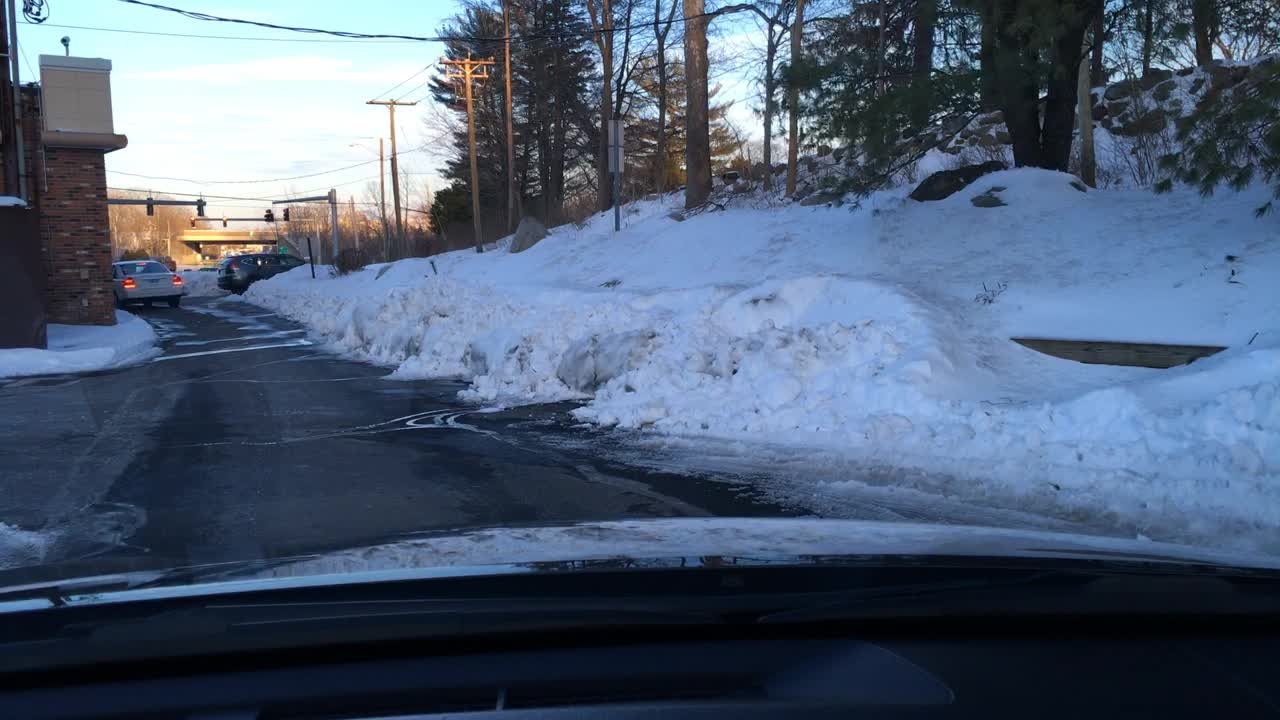car: (110, 255, 187, 306), (217, 253, 311, 292)
